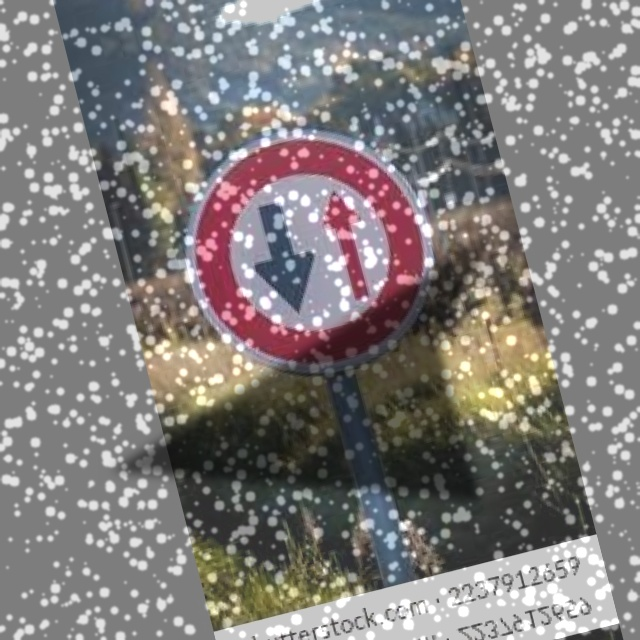Mandatory_Two_Way_Traffic: (160, 91, 474, 401)
